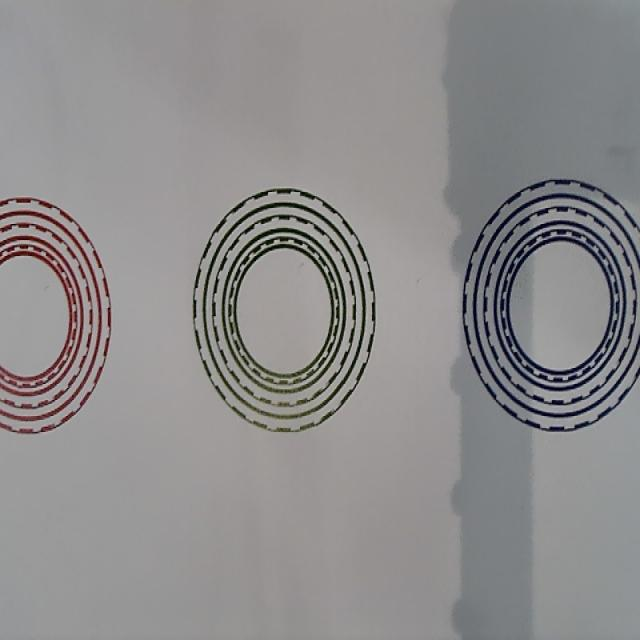g: (192, 186, 376, 433)
